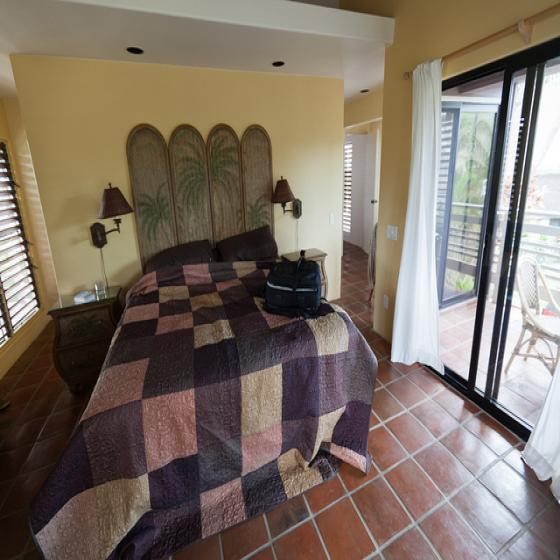bed: (66, 234, 365, 495)
book: (74, 290, 95, 303)
chair: (503, 254, 560, 380)
suitcase: (263, 256, 322, 320)
